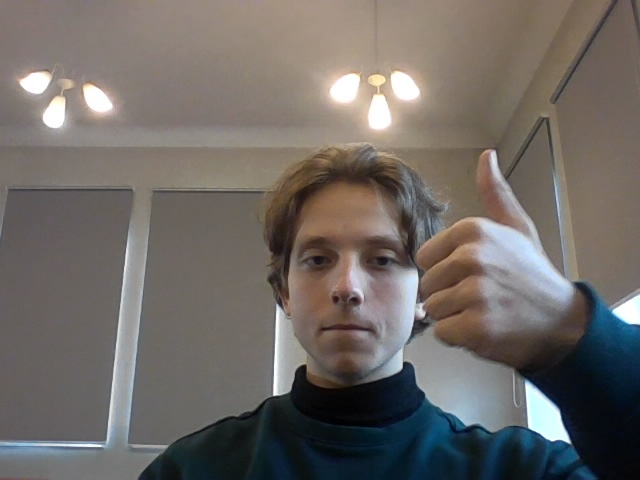thank you: (403, 136, 591, 389)
